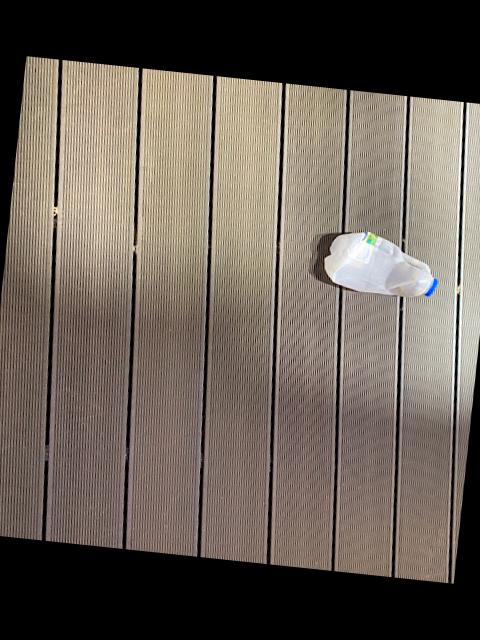plastic: (326, 234, 438, 299)
